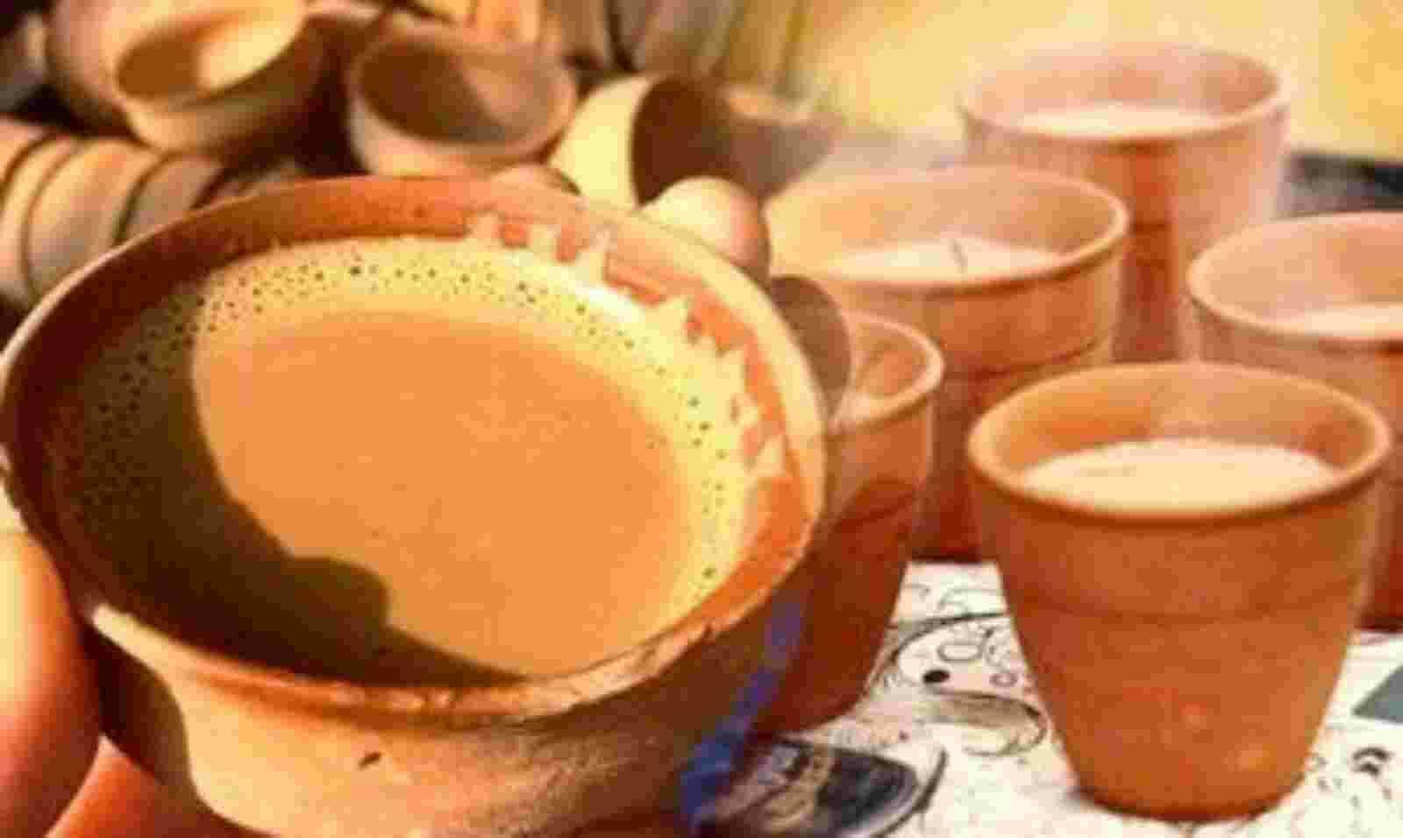Chai: (64, 220, 748, 691), (1029, 442, 1342, 516)
